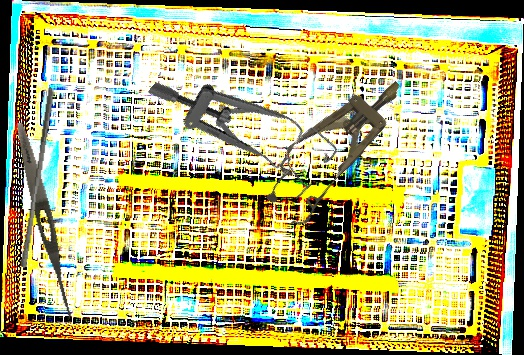Dressing Forceps: (10, 120, 81, 322)
Pusher: (19, 86, 55, 269)
Speculum: (145, 30, 342, 213), (252, 59, 423, 233)
